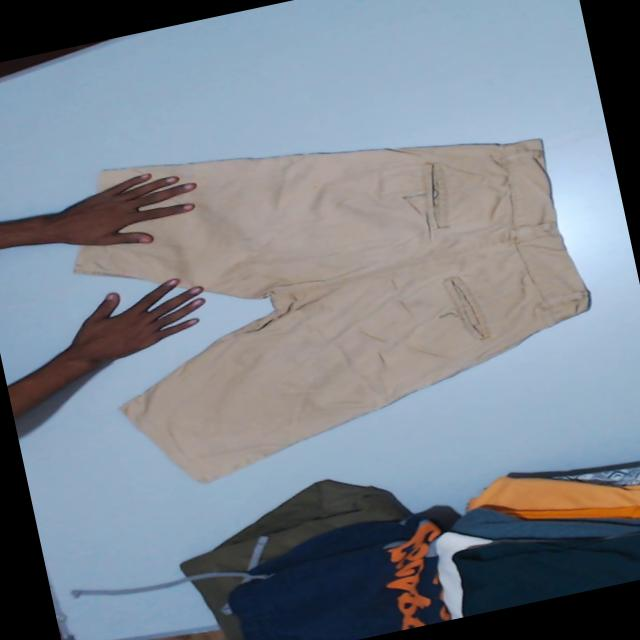new-garment: (74, 138, 588, 480)
